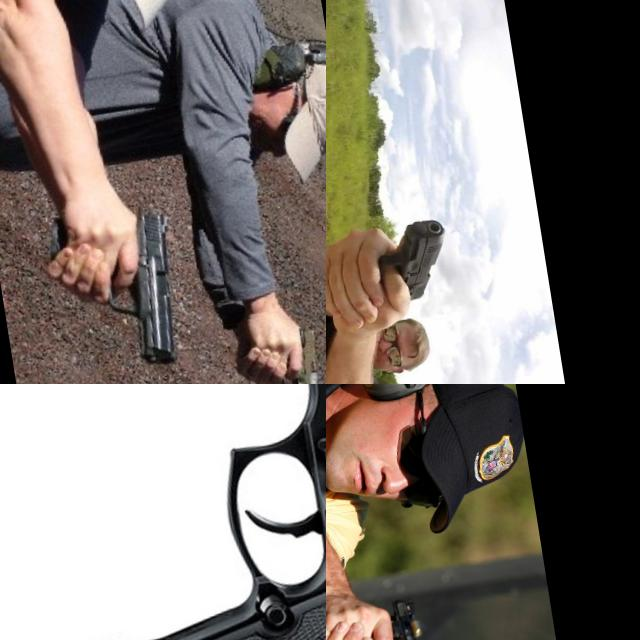handgun: (24, 384, 326, 640), (90, 200, 196, 378), (358, 214, 458, 312), (355, 596, 438, 640), (270, 323, 326, 384)
